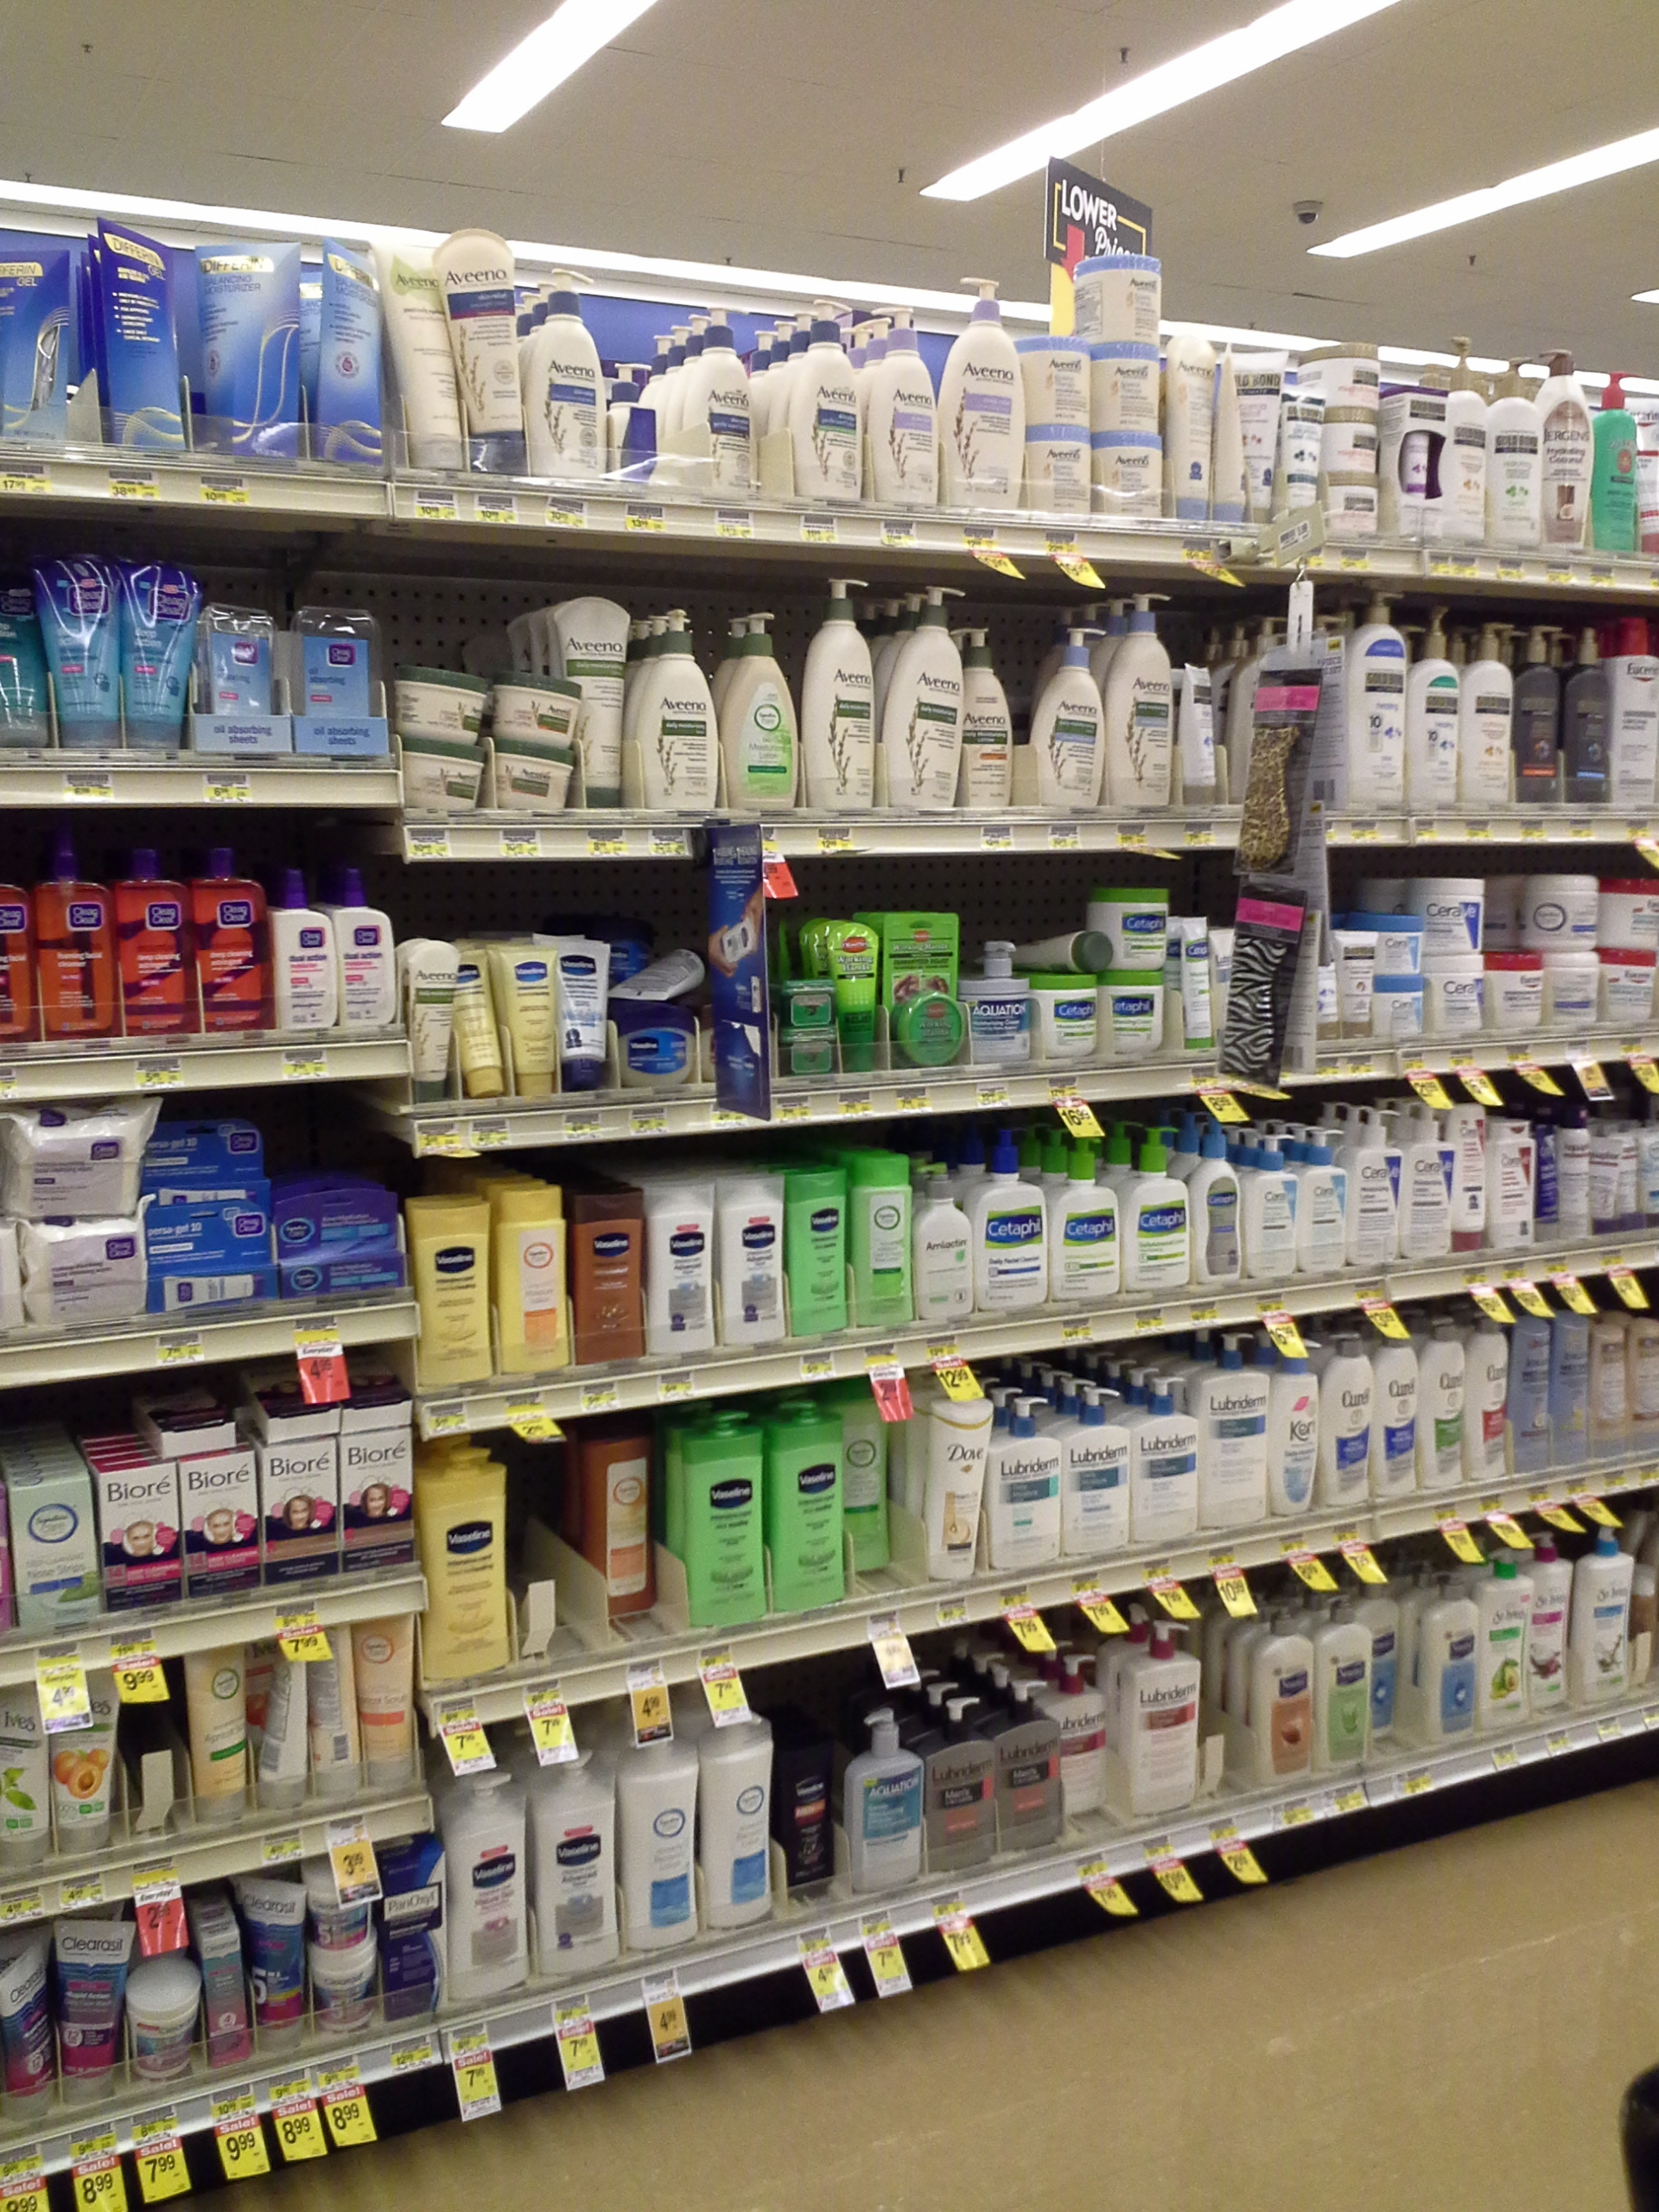Misplacement: (592, 1439, 687, 1651), (847, 1381, 927, 1608)
Out-of-stock: (504, 1437, 592, 1695)
